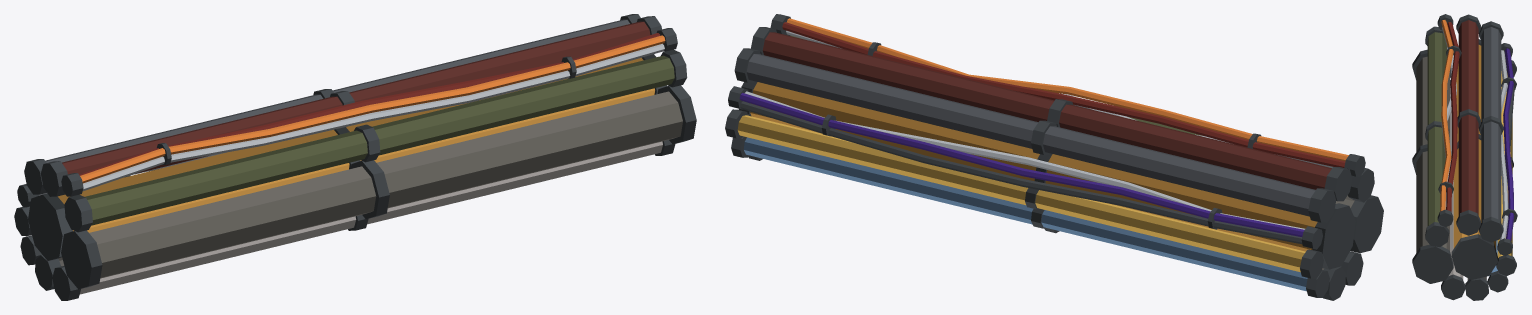
The model's file is SM_Bld_Pipe_Large_Group_01.fbx.
The picture shows the model from 3 angles, left to right: view 1: azimuth 30°, elevation 25°; view 2: azimuth 150°, elevation 25°; view 3: azimuth 270°, elevation 25°; orthographic projection. The views are drawn at different scales.
Parts seen in each view (by area): view 1: SM_Bld_Pipe_Large_Group_01; view 2: SM_Bld_Pipe_Large_Group_01; view 3: SM_Bld_Pipe_Large_Group_01.
Boxes of the visible parts, x1,y1,x2,y2 form: SM_Bld_Pipe_Large_Group_01: [14, 14, 696, 300]; SM_Bld_Pipe_Large_Group_01: [725, 14, 1383, 300]; SM_Bld_Pipe_Large_Group_01: [1412, 14, 1517, 300].
Size of the model in its own units: 500 by 105 by 112.
